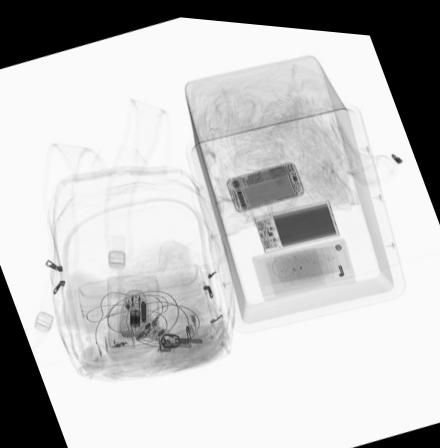Powerbank: (254, 193, 341, 249)
